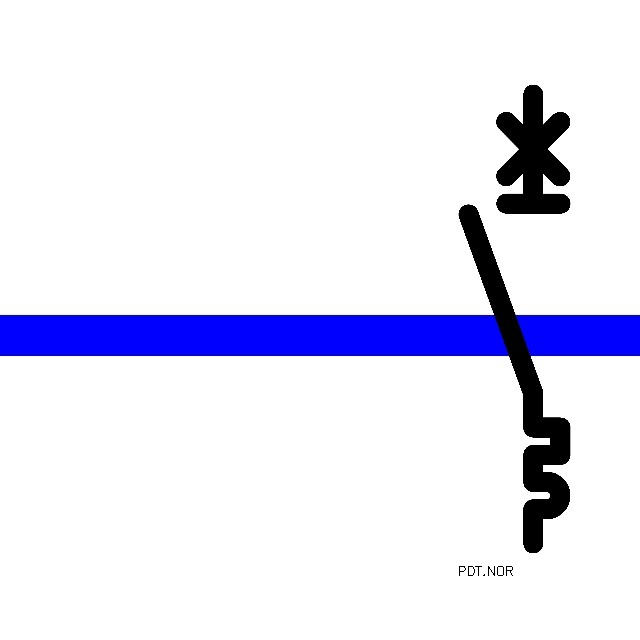interruptor_termomagnetico: (457, 83, 572, 555)
